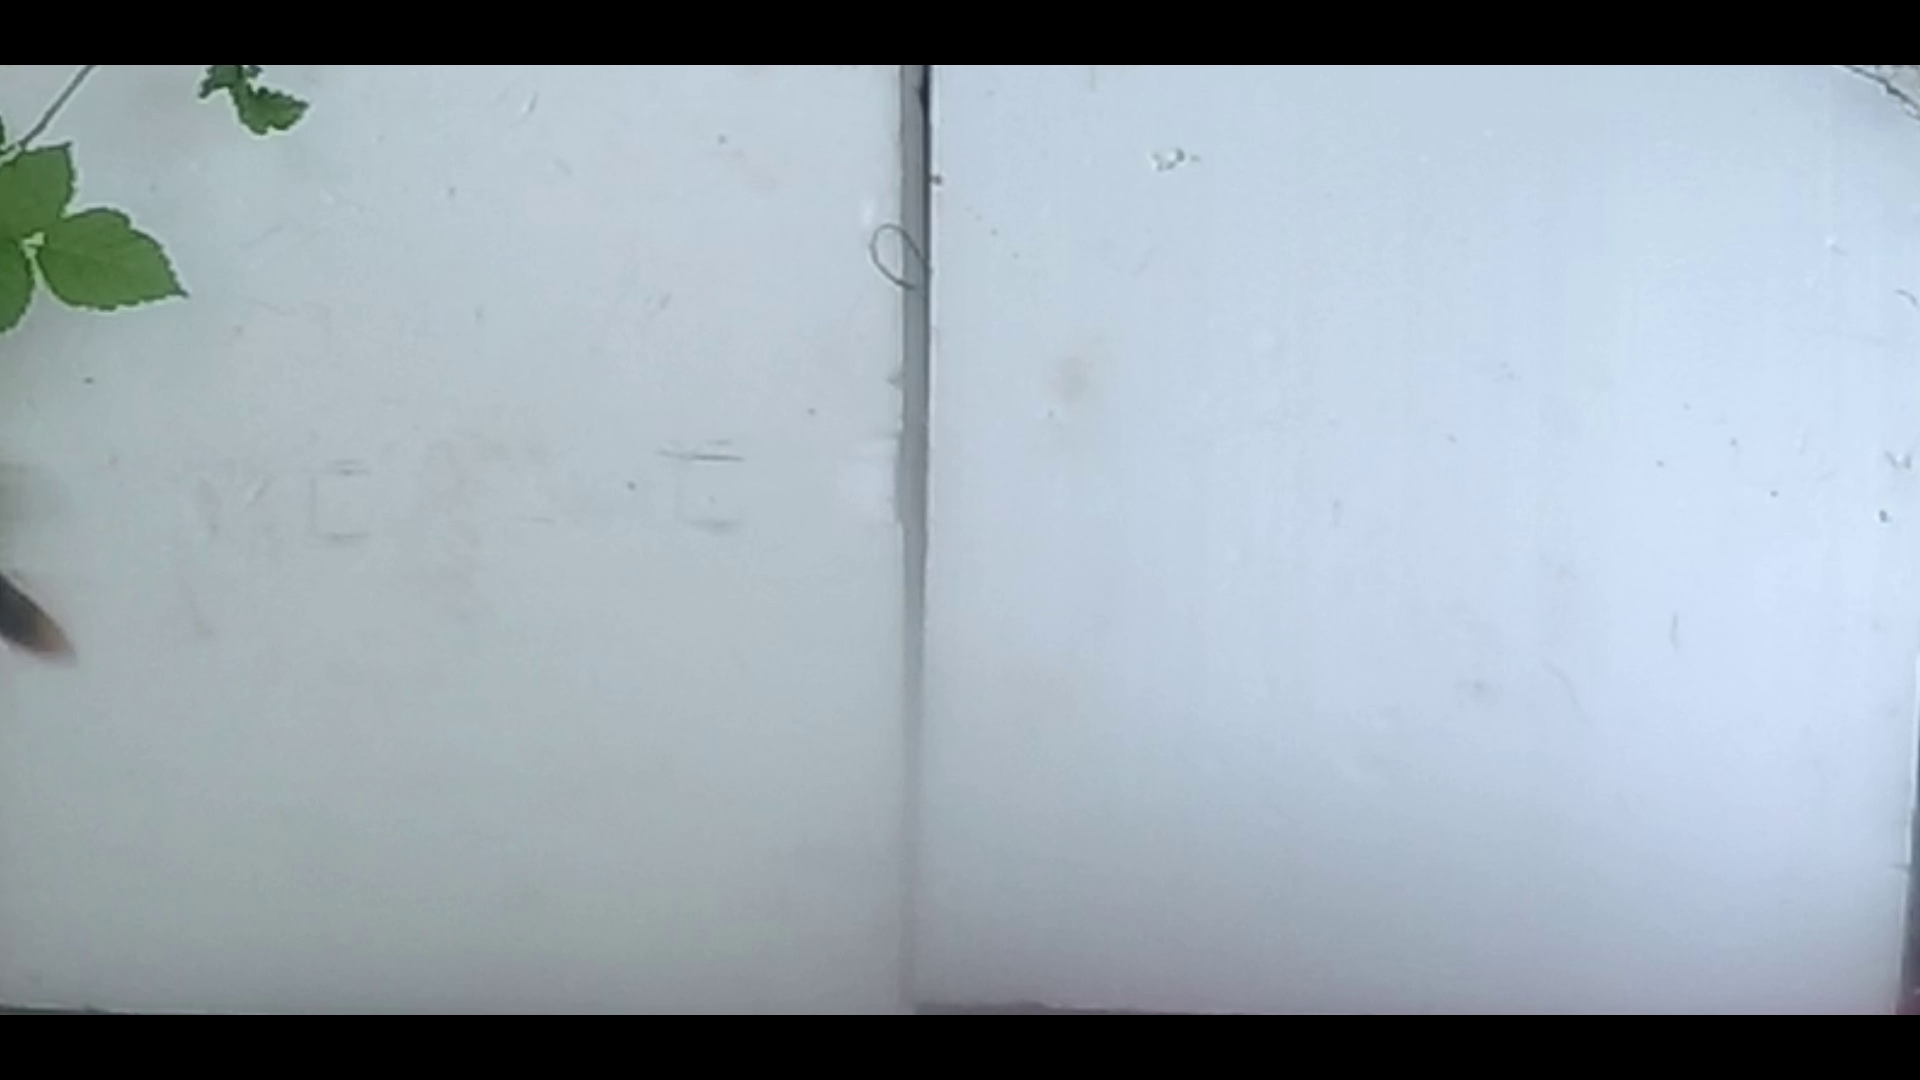Asian_hornets: (0, 551, 78, 683)
